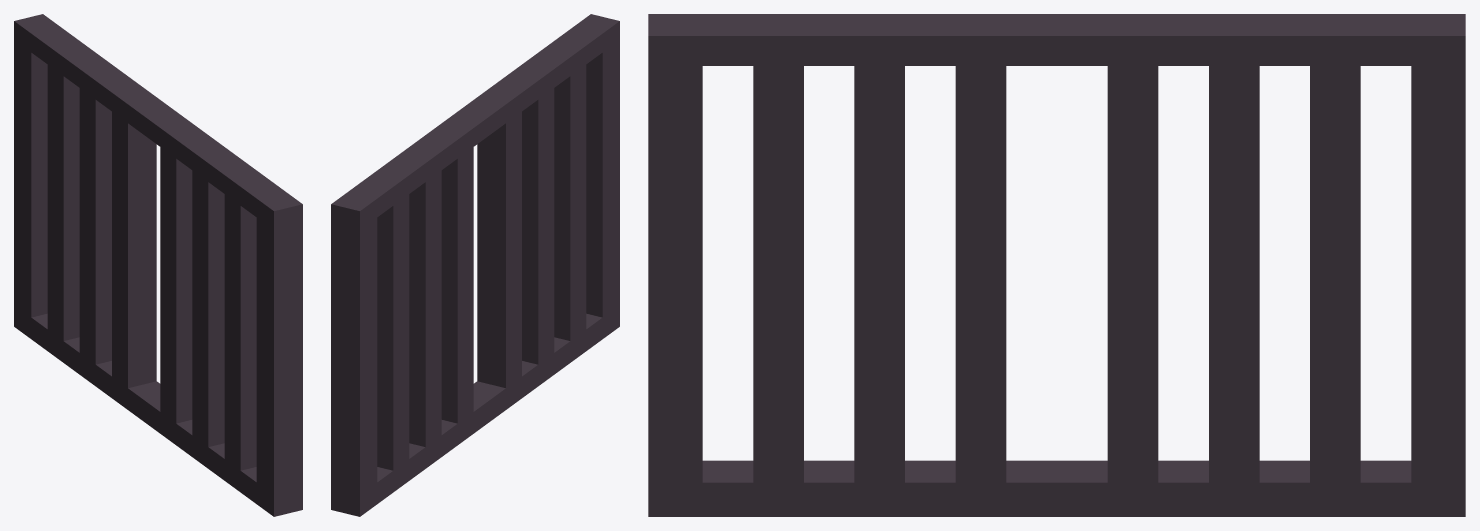
File: fence.fbx
3 views of the same model, side by side, from view 1: azimuth 30°, elevation 25°; view 2: azimuth 150°, elevation 25°; view 3: azimuth 270°, elevation 25° (orthographic). The views are drawn at different scales.
Visible parts, largest first — view 1: Cube; view 2: Cube; view 3: Cube.
Part boxes in pixels (<box>): Cube: <box>14,14,302,516</box>; Cube: <box>331,14,619,516</box>; Cube: <box>648,14,1465,516</box>.
Bounding box in the file's own units: 14.77 × 150 × 231.
1 material, 1 textured.
